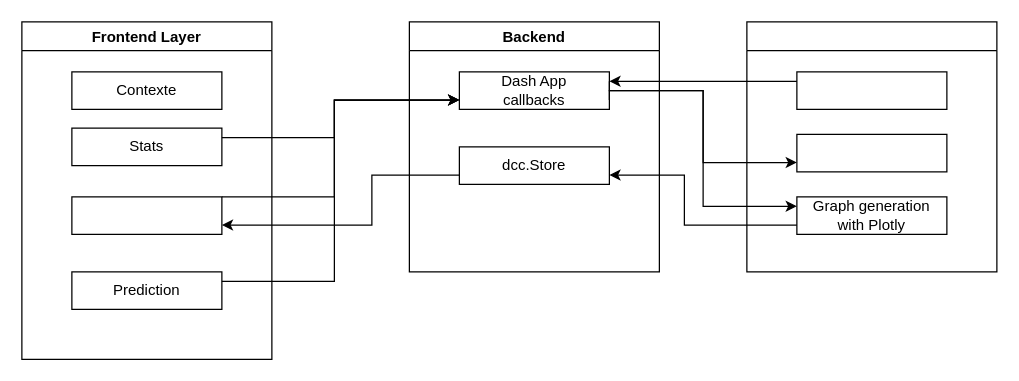
This 1019x381 diagram has some shape labels left out. Here are the shapes that lost their labels. From the top down, the box of each, then its label:
(796, 71, 947, 109): Data source
(746, 21, 997, 272): Data processing layer
(796, 133, 947, 172): DPE & consumption Prediction
(71, 196, 222, 234): Graph
